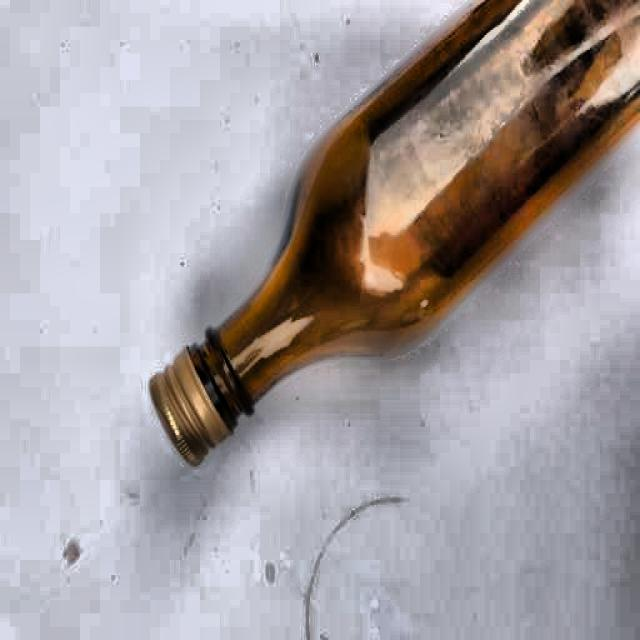glass: (148, 2, 640, 458)
